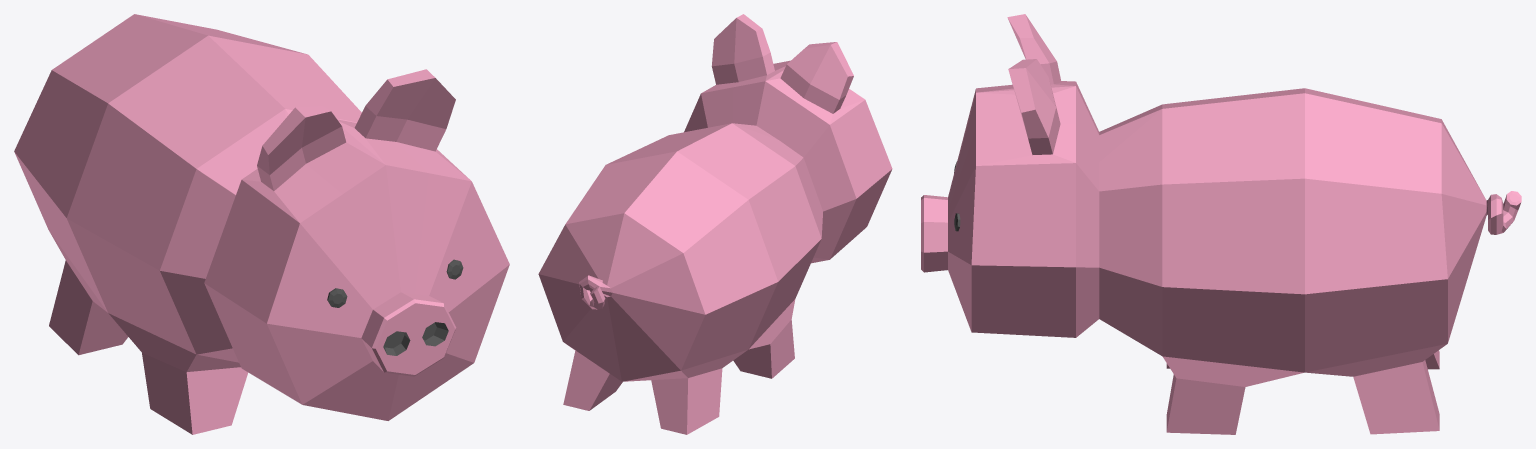
File: Pig_01.gltf
3 renders of one model, left to right at view 1: azimuth 30°, elevation 25°; view 2: azimuth 150°, elevation 25°; view 3: azimuth 270°, elevation 25°, orthographic. The views are drawn at different scales.
Visible parts, largest first — view 1: node-0; view 2: node-0; view 3: node-0.
Part boxes in pixels (x1,y1,x2,y2): node-0: (14,14,509,434); node-0: (538,14,892,434); node-0: (921,14,1521,434).
Size of the model in its own units: 10 by 12.92 by 19.84.
